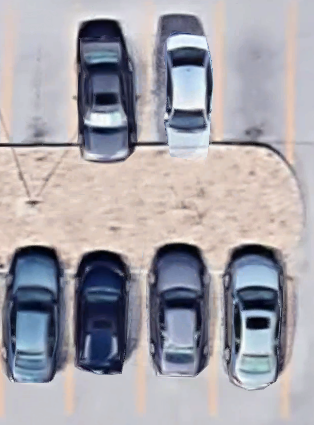Occupied: (69, 270, 142, 416), (73, 0, 147, 143), (148, 0, 222, 142), (143, 270, 214, 416), (214, 271, 285, 416), (0, 270, 68, 416)
Vacant: (221, 1, 291, 142), (10, 1, 73, 146)
